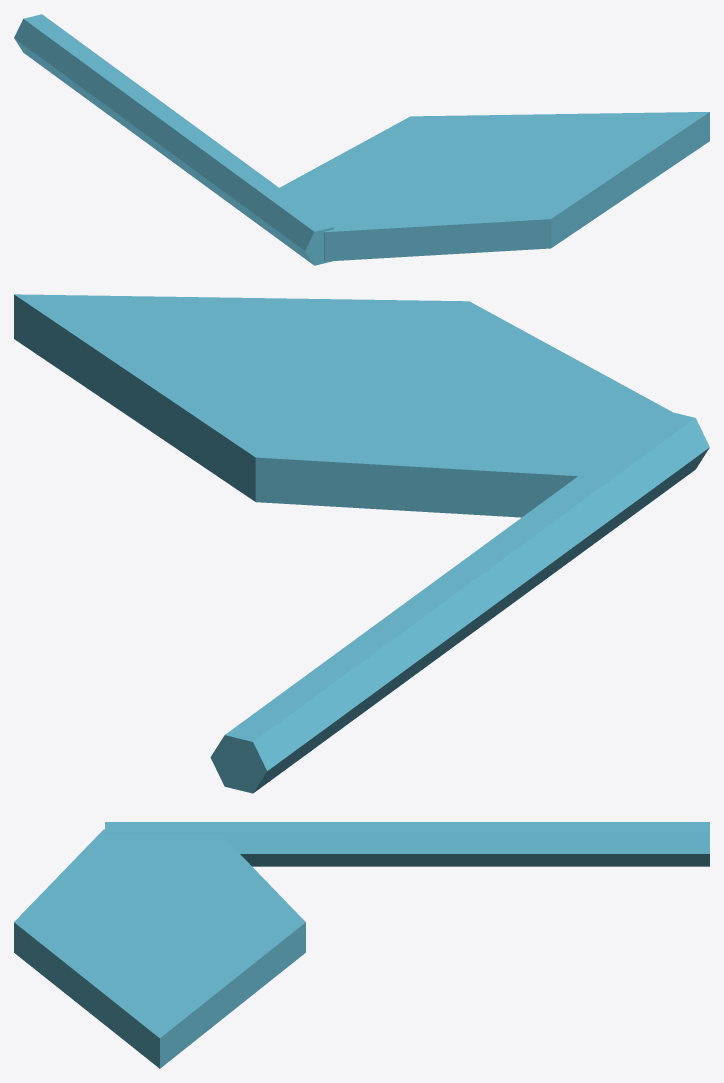
The model's file is blade-spear.glb.
3 renders of one model, top to bottom at view 1: azimuth 30°, elevation 25°; view 2: azimuth 150°, elevation 25°; view 3: azimuth 270°, elevation 25°, orthographic. The views are drawn at different scales.
Visible parts, largest first — view 1: m; view 2: m; view 3: m.
Part boxes in pixels (<box>): m: <box>14,14,709,265</box>; m: <box>14,294,709,793</box>; m: <box>14,822,709,1068</box>.
Size of the model in its own units: 0.0922 by 0.00693 by 0.124.
